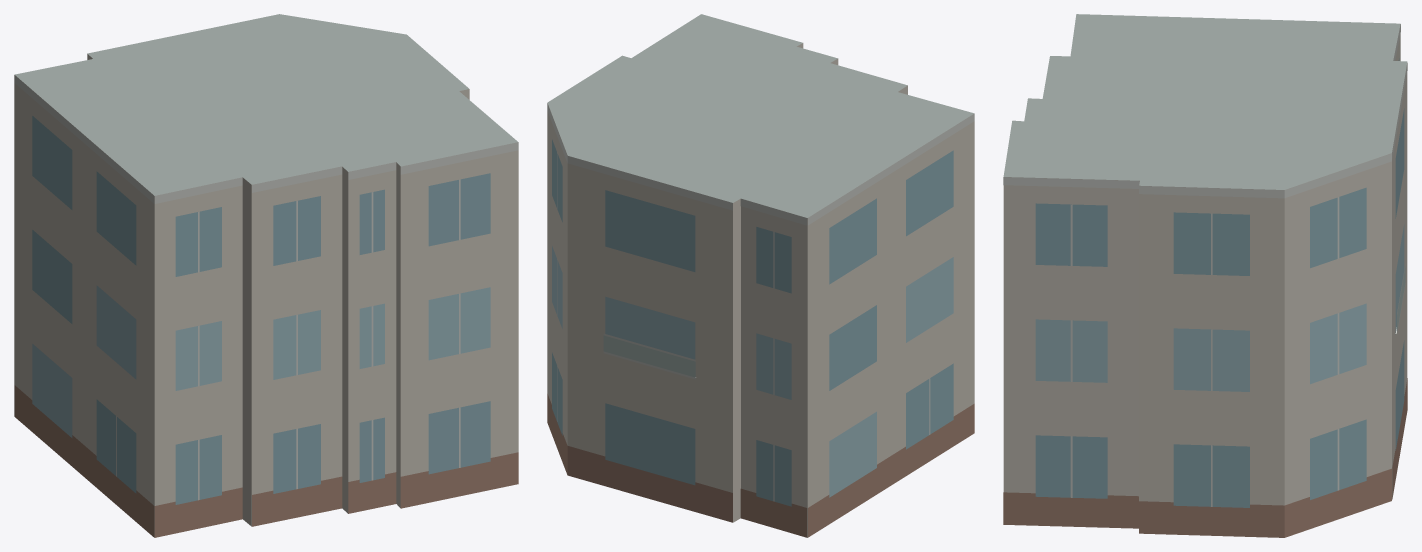
The model's file is survey-upis-32973037.glb.
The picture shows the model from 3 angles, left to right: view 1: azimuth 30°, elevation 25°; view 2: azimuth 150°, elevation 25°; view 3: azimuth 270°, elevation 25°; orthographic projection. The views are drawn at different scales.
Visible parts, largest first — view 1: survey-upis-32973037.tmp; view 2: survey-upis-32973037.tmp; view 3: survey-upis-32973037.tmp.
Part boxes in pixels (left/top/right/bottom): survey-upis-32973037.tmp: left=14, top=14, right=518, bottom=537; survey-upis-32973037.tmp: left=547, top=14, right=974, bottom=537; survey-upis-32973037.tmp: left=1003, top=14, right=1407, bottom=537.
Bounding box in the file's own units: 11.08 × 10.2 × 10.75.
